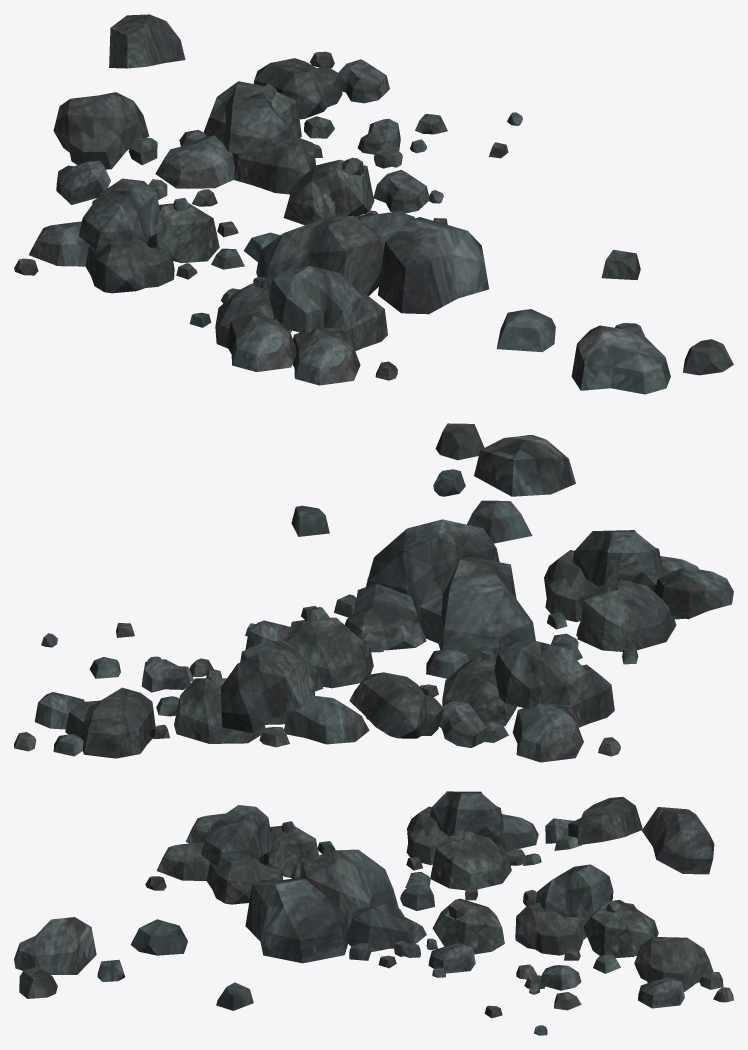
File: object_rubble20.fbx
3 views of the same model, one above another, from view 1: azimuth 30°, elevation 25°; view 2: azimuth 150°, elevation 25°; view 3: azimuth 270°, elevation 25° (orthographic). The views are drawn at different scales.
Parts seen in each view (by area): view 1: obj0.094; view 2: obj0.094; view 3: obj0.094.
Part boxes in pixels (x1=…): obj0.094: x1=14, y1=14, x2=733, y2=394; obj0.094: x1=14, y1=423, x2=733, y2=762; obj0.094: x1=14, y1=791, x2=733, y2=1035.
Bounding box in the file's own units: 8.62 × 1.99 × 11.86.
